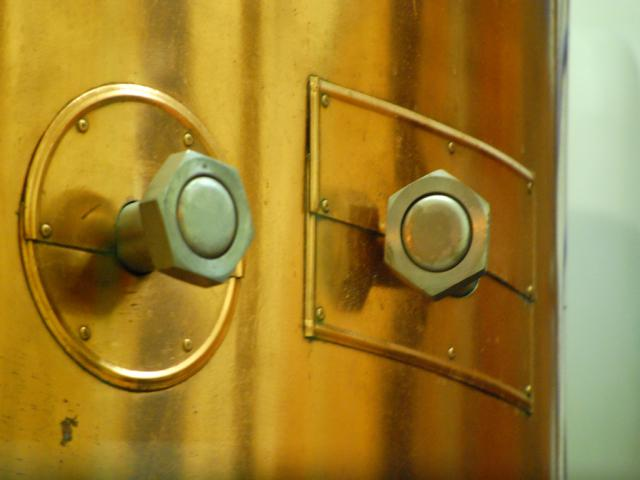Door-handle: (302, 75, 538, 416), (18, 82, 254, 392)
